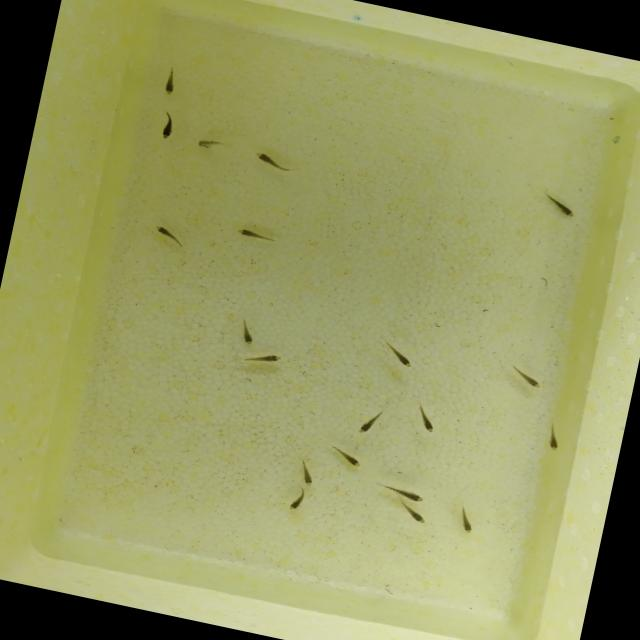fingerling: (373, 335, 426, 378), (531, 188, 589, 225), (500, 356, 551, 397), (243, 142, 300, 178), (320, 436, 374, 474), (228, 218, 283, 252), (146, 218, 196, 255), (352, 401, 395, 444), (406, 400, 447, 442), (152, 58, 190, 102), (445, 502, 487, 540), (376, 479, 433, 506), (153, 104, 185, 148), (536, 418, 570, 458), (246, 344, 290, 374), (292, 456, 324, 491), (396, 502, 436, 530), (231, 312, 260, 349), (192, 130, 232, 156), (281, 487, 313, 518)
